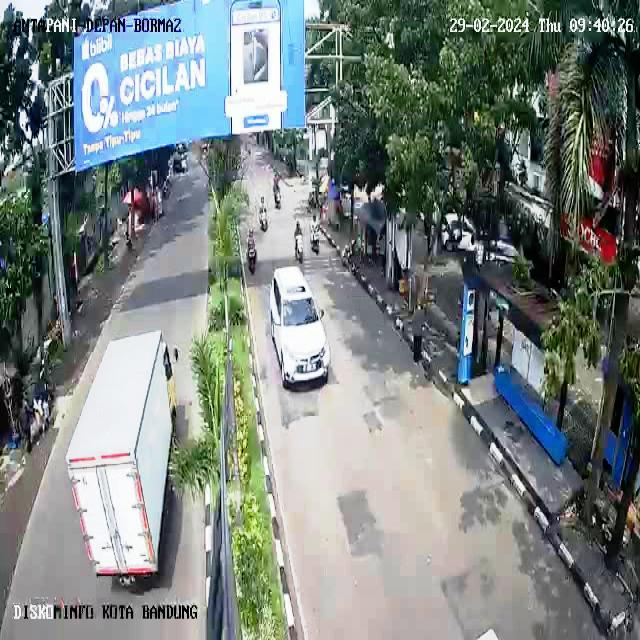Bike: (255, 182, 273, 238), (244, 225, 259, 277), (290, 216, 304, 265), (309, 213, 322, 257), (273, 175, 285, 212)
Car: (64, 305, 189, 620), (268, 261, 332, 394)
